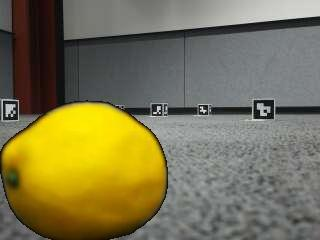lemon: (1, 101, 165, 239)
